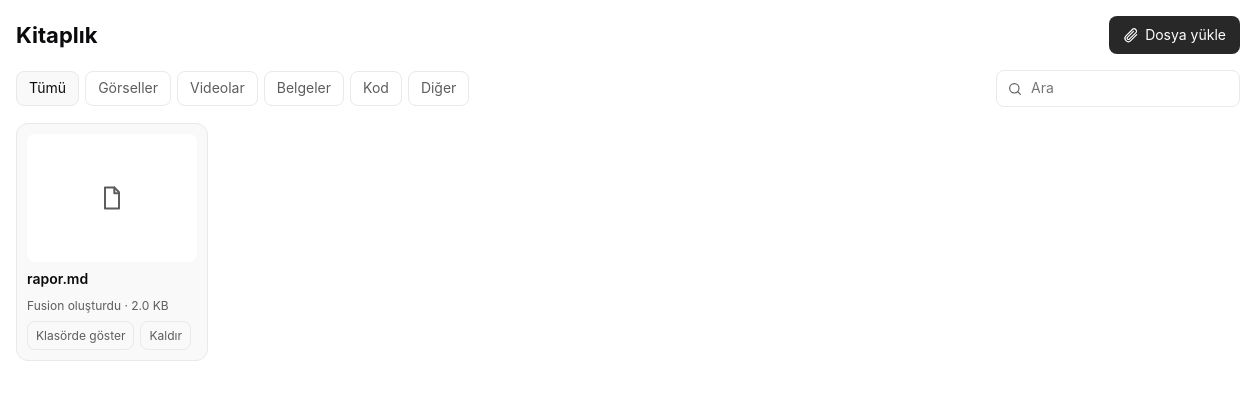
it: LibraryScreen › yeni başarılı işlem önceki işlem hatasını kaldırır
The width and height of the screenshot is (1257, 417).
Expected: the text "rapor.md" is shown, [27,270,88,286]
Click the button "Dosya yükle".
click(1175, 35)  # box [1109,16,1240,54]
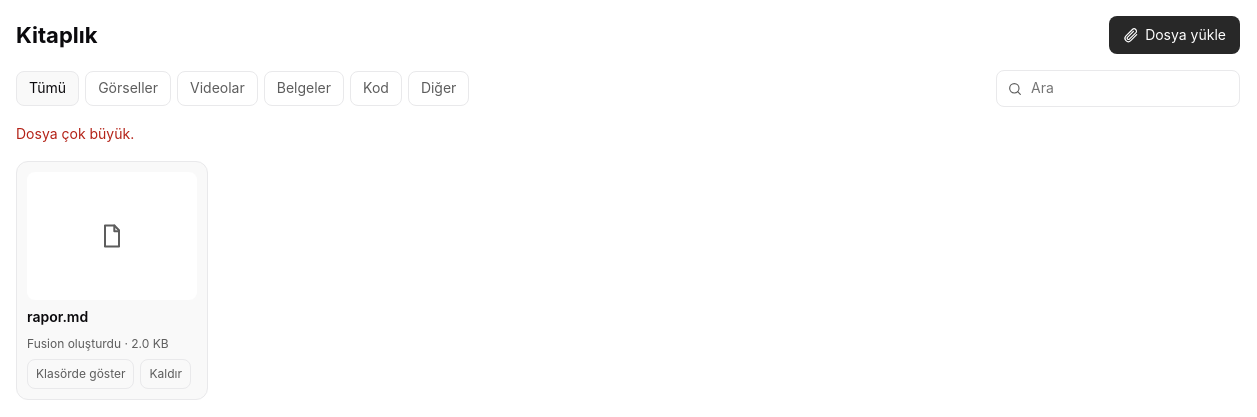
Now the message "Dosya çok büyük." is shown, box [16,125,134,142]
Click the button "Dosya yükle".
click(1175, 35)  # box [1109,16,1240,54]
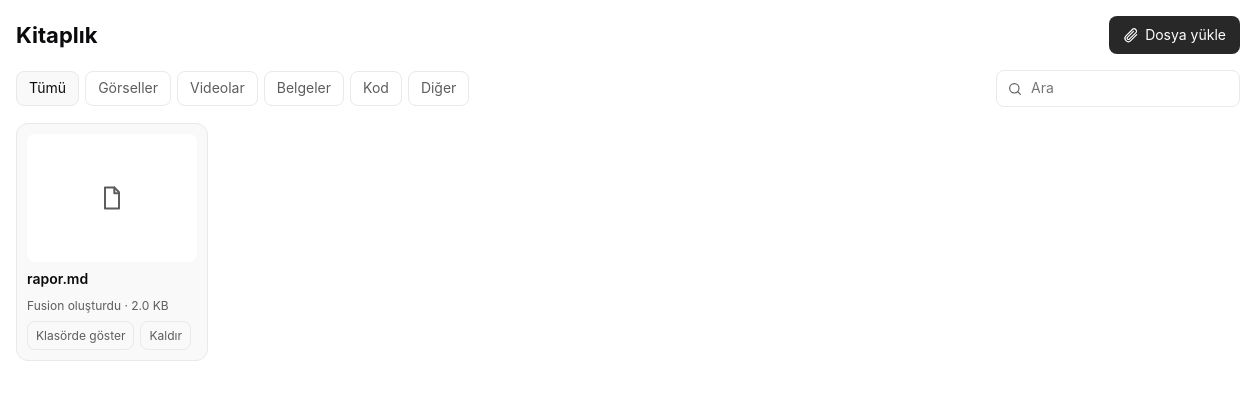
Now the message "Dosya çok büyük." is gone
